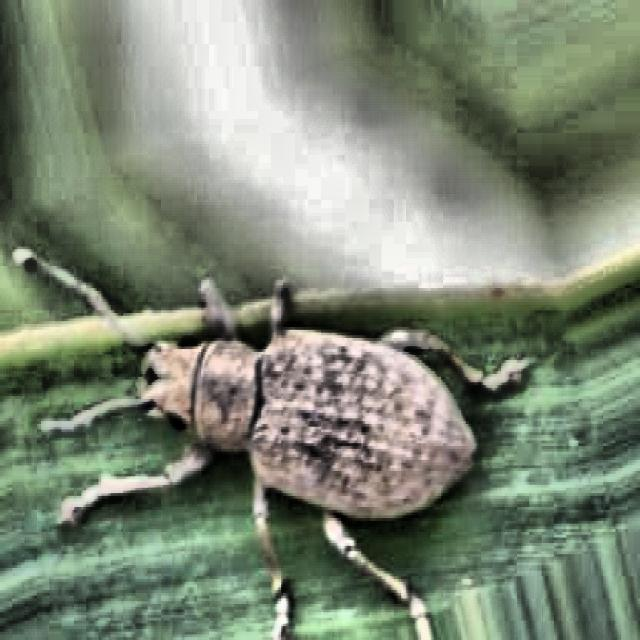Stink bug: (3, 159, 524, 640)
